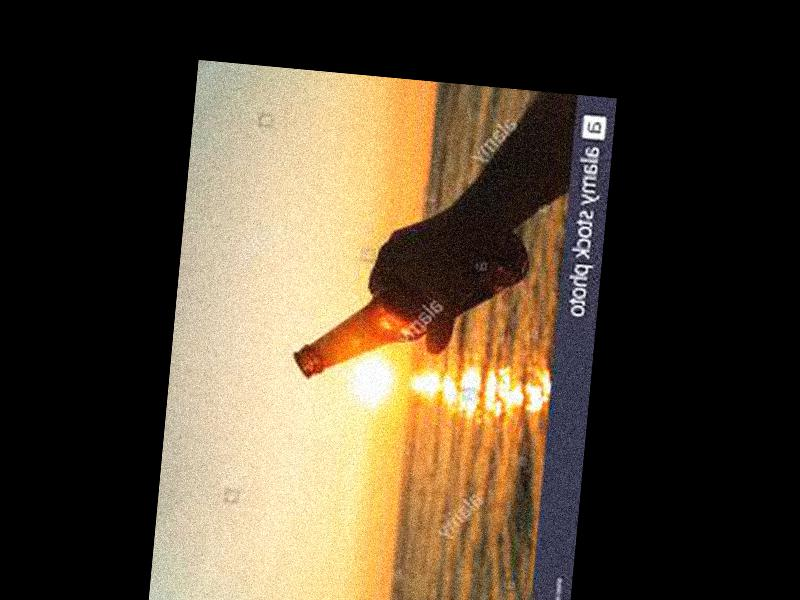Beer: (288, 207, 532, 396)
